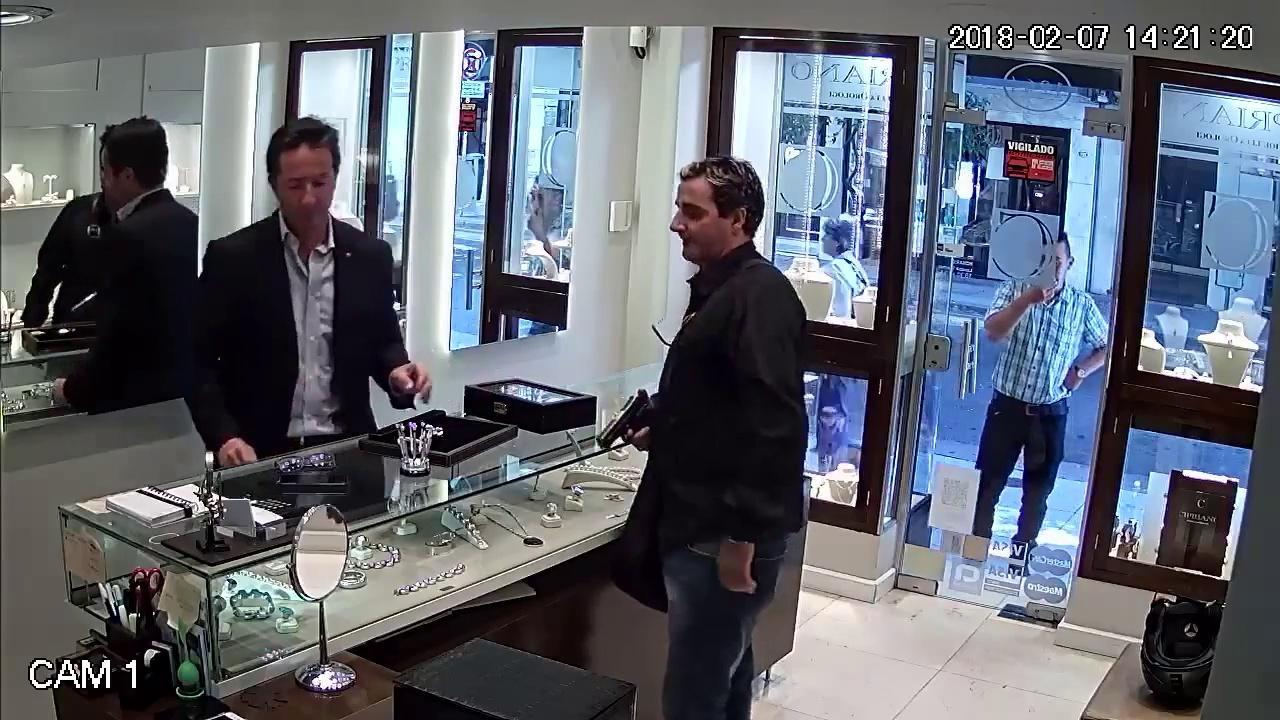Guns perspective: (588, 373, 660, 472)
